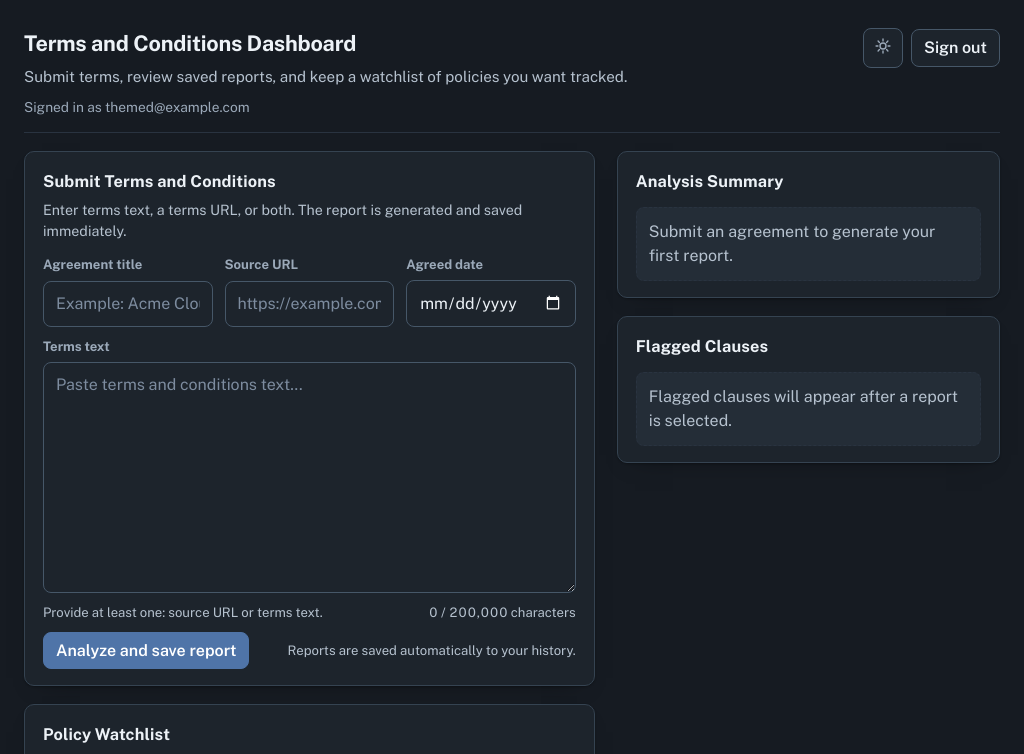
AuthEntryPoint › defaults to dark mode and lets authenticated users toggle the dashboard theme
Expected: the heading "Terms and Conditions Dashboard" is shown, [24, 30, 356, 56]
Click the button named "Switch to light mode" at (883, 48), box [863, 28, 903, 68]
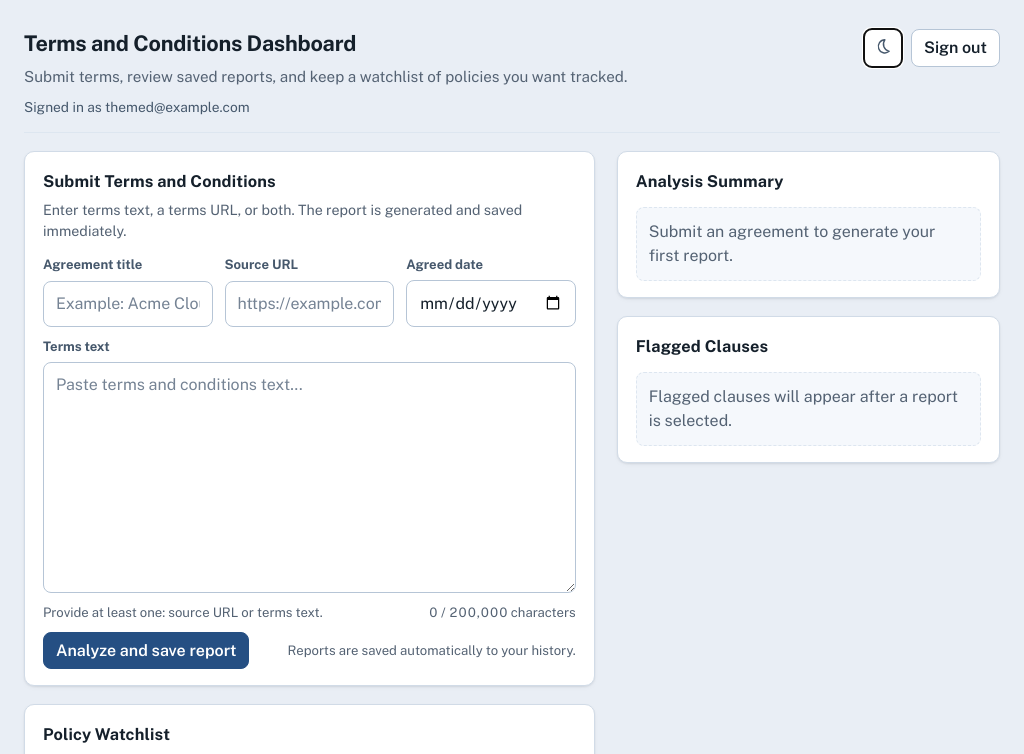
Now the button named "Switch to dark mode" is shown, box [863, 28, 903, 68]
